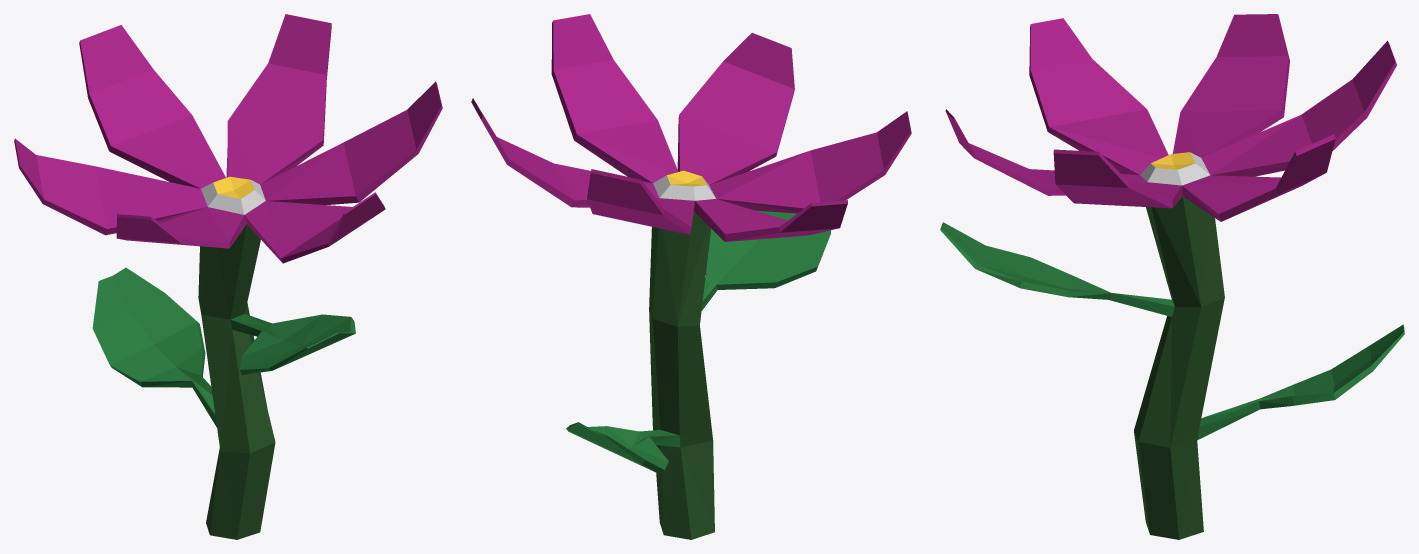
File: Flower01.fbx
3 views of the same model, side by side, from view 1: azimuth 30°, elevation 25°; view 2: azimuth 150°, elevation 25°; view 3: azimuth 270°, elevation 25° (orthographic). The views are drawn at different scales.
Parts seen in each view (by area): view 1: Flower01; view 2: Flower01; view 3: Flower01.
Part boxes in pixels (x1,y1,x2,y2): Flower01: (14, 14, 442, 539); Flower01: (471, 14, 911, 539); Flower01: (940, 14, 1404, 539).
Bounding box in the file's own units: 59.12 × 68.78 × 62.64.
